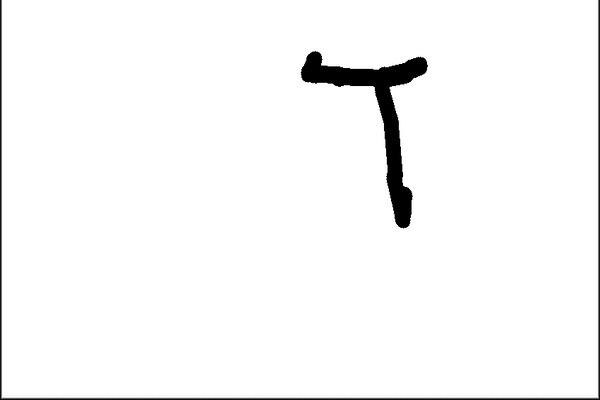T: (284, 47, 476, 236)
